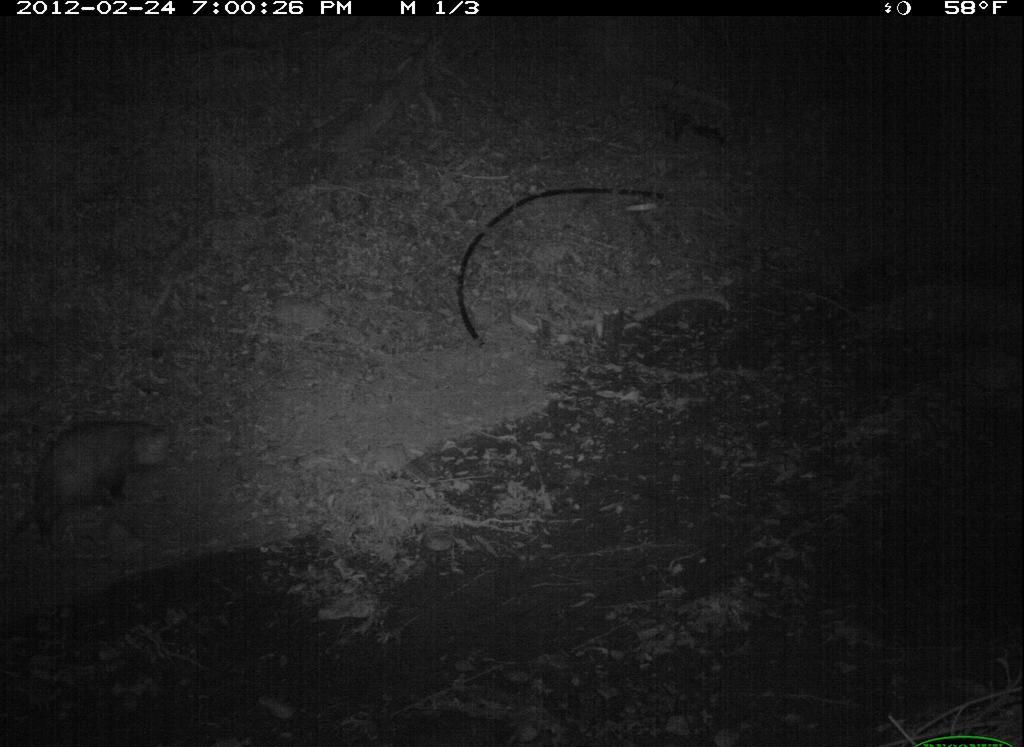opossum: (25, 402, 190, 570)
